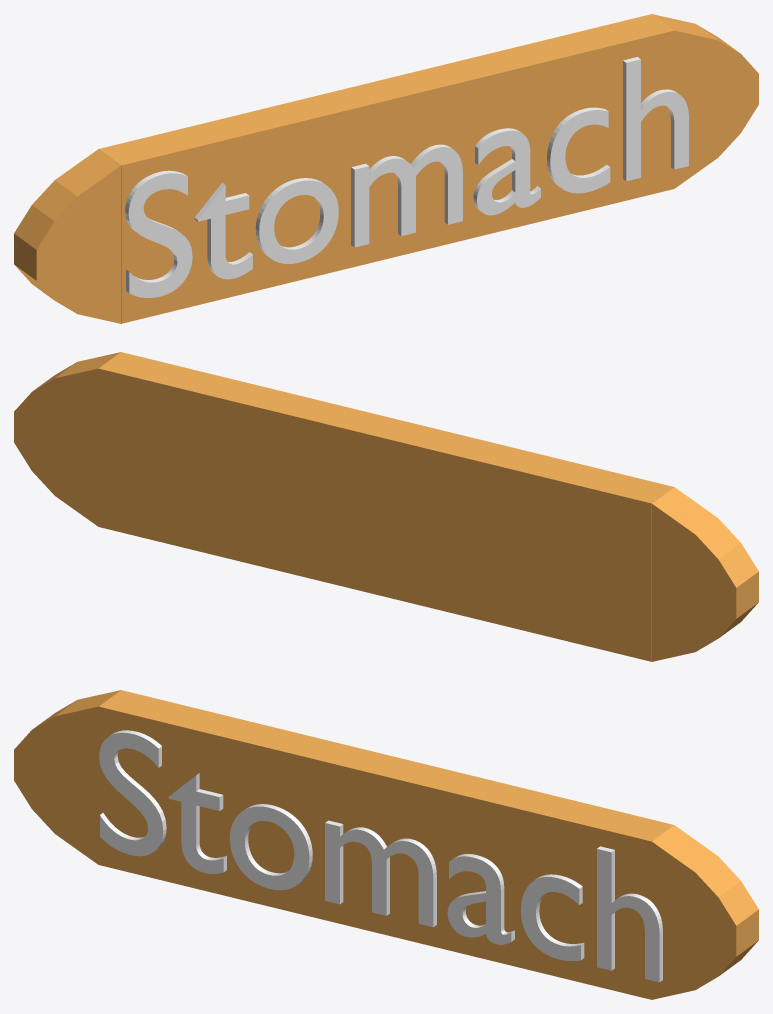
The model's file is TxtStomach.fbx.
The picture shows the model from 3 angles, top to bottom: view 1: azimuth 30°, elevation 25°; view 2: azimuth 150°, elevation 25°; view 3: azimuth 330°, elevation 25°; orthographic projection.
Visible parts, largest first — view 1: TagContainer.030, Text.030; view 2: TagContainer.030; view 3: TagContainer.030, Text.030.
Part boxes in pixels (x1=…): TagContainer.030: x1=14, y1=14, x2=758, y2=323; Text.030: x1=125, y1=57, x2=688, y2=297; TagContainer.030: x1=14, y1=352, x2=758, y2=661; TagContainer.030: x1=14, y1=690, x2=758, y2=999; Text.030: x1=99, y1=730, x2=662, y2=982.
Bounding box in the file's own units: 197 × 41.3 × 12.28.
